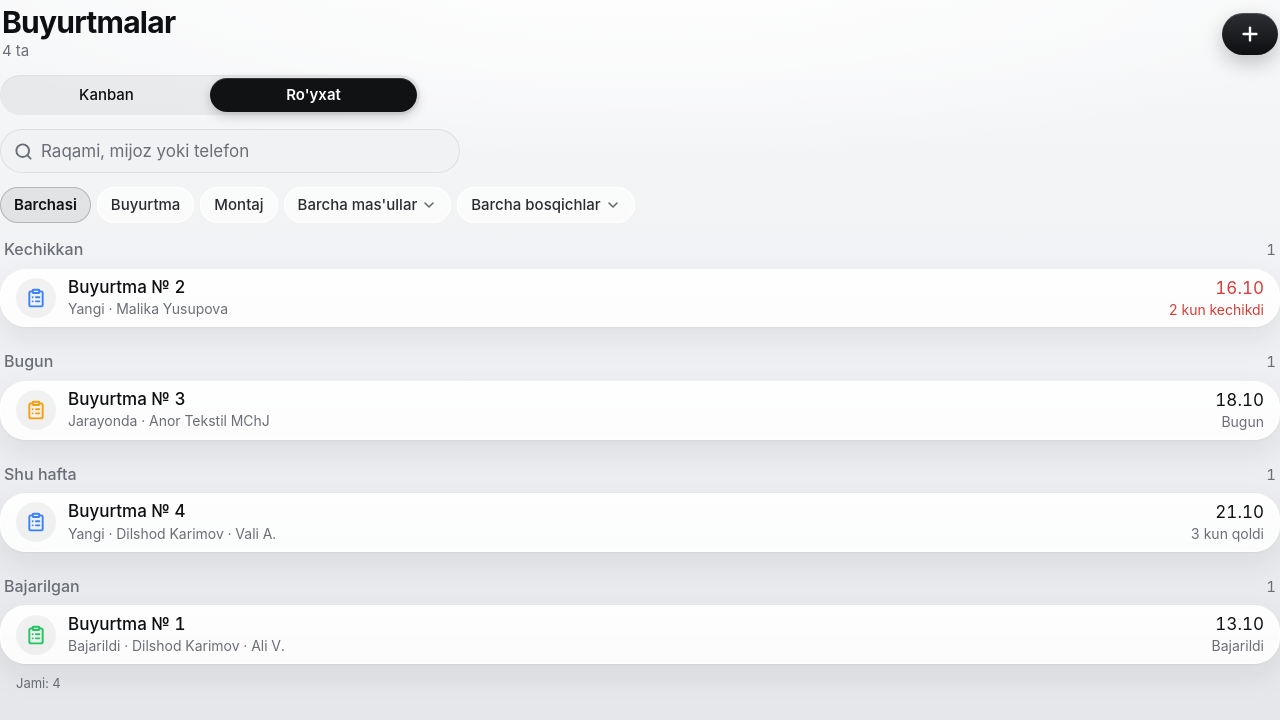
Test: without customers.create the dialog takes a customer that is there alone: no type, no fields, a word on why
Click the button named "Buyurtma qo'shish". click: [1250, 34]
box: x1=1222 y1=13 x2=1278 y2=55
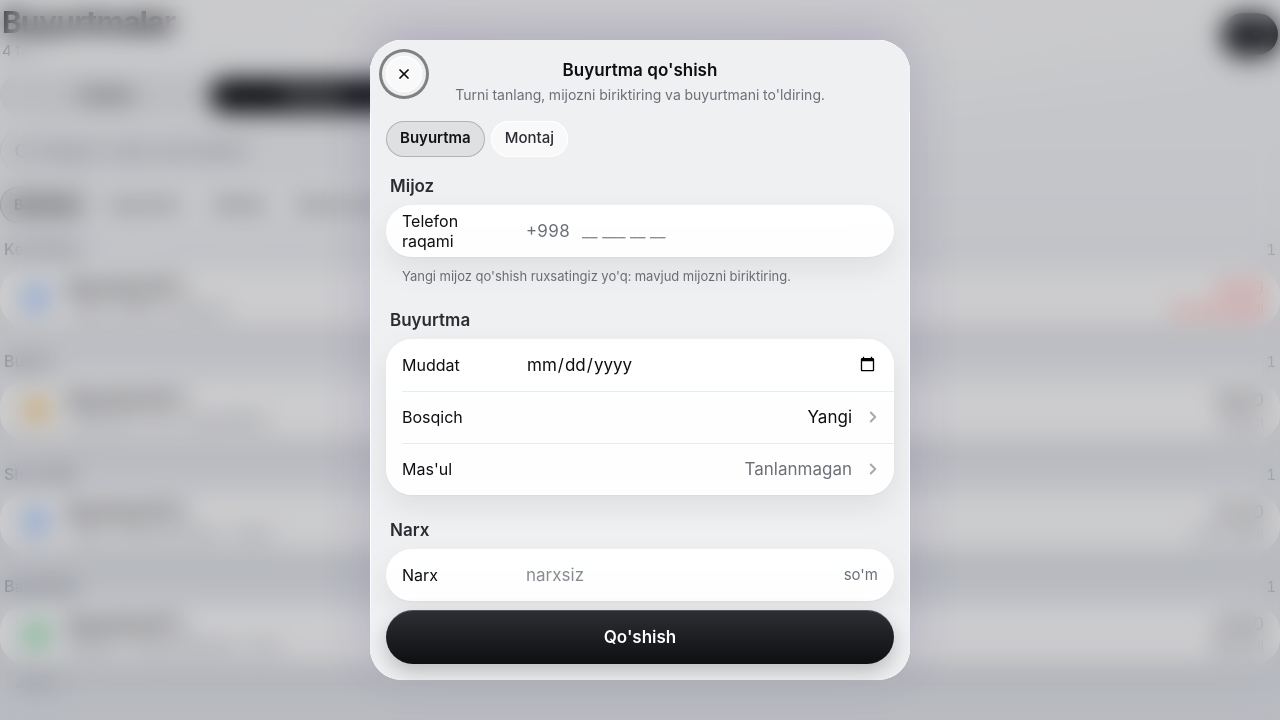
expect the text "Yangi mijoz qo'shish ruxsatingiz yo'q: mavjud mijozni biriktiring." is shown: met, box x1=402 y1=268 x2=791 y2=284
expect the dropdown labelled "Telefon raqami" is shown: met, box x1=582 y1=209 x2=878 y2=253
